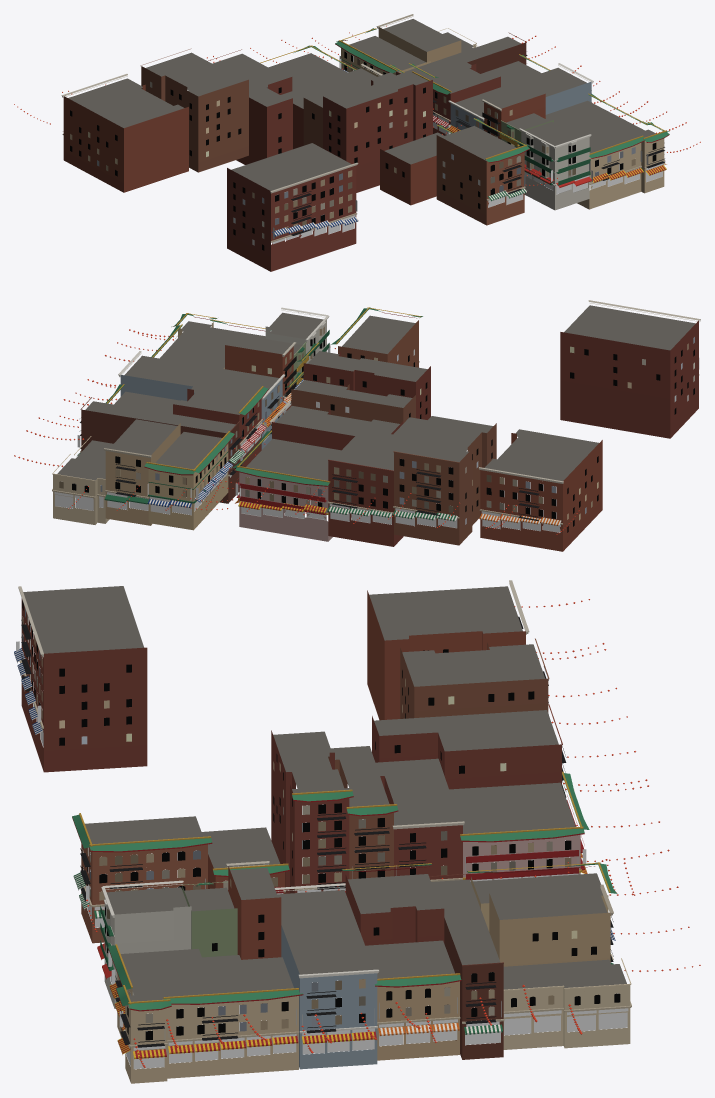
3 views of the same model, one above another, from view 1: azimuth 30°, elevation 25°; view 2: azimuth 150°, elevation 25°; view 3: azimuth 270°, elevation 25° (orthographic). The views are drawn at different scales.
Visible parts, largest first — view 1: L1_brickred, L1_roof, L1_d_brickred, L1_win, L1_stucco, L1_brick, L1_d_paint, L1_stone, L1_d_fabric, L1_rooftile, L1_shopint, L1_d_brick (+3 smaller); view 2: L1_brickred, L1_roof, L1_stucco, L1_win, L1_brick, L1_d_fabric, L1_shopint, L1_stone, L1_d_brickred, L1_d_paint, L1_rooftile, L1_d_stucco (+5 smaller); view 3: L1_roof, L1_brickred, L1_brick, L1_stucco, L1_win, L1_rooftile, L1_d_paint, L1_shopint, L1_stone, L1_d_fabric, L1_d_metal, L1_d_brickred (+3 smaller).
Part boxes in pixels (x1,y1,x2,y2): L1_brickred: [63, 64, 545, 271]; L1_roof: [68, 19, 655, 190]; L1_d_brickred: [124, 42, 526, 205]; L1_win: [70, 51, 656, 250]; L1_stucco: [341, 48, 589, 210]; L1_brick: [473, 43, 664, 209]; L1_d_paint: [260, 28, 669, 184]; L1_stone: [61, 14, 665, 242]; L1_d_fabric: [62, 68, 666, 236]; L1_rooftile: [294, 28, 669, 162]; L1_shopint: [287, 119, 662, 240]; L1_d_brick: [378, 27, 589, 209]; L1_brickred: [187, 320, 698, 551]; L1_roof: [57, 305, 695, 481]; L1_stucco: [148, 320, 328, 541]; L1_win: [59, 326, 694, 532]; L1_brick: [53, 322, 224, 525]; L1_d_fabric: [77, 379, 561, 526]; L1_shopint: [55, 382, 560, 532]; L1_stone: [52, 300, 700, 524]; L1_d_brickred: [81, 404, 437, 546]; L1_d_paint: [107, 307, 421, 514]; L1_rooftile: [105, 307, 422, 485]; L1_d_stucco: [120, 333, 351, 541]; L1_roof: [23, 586, 626, 1001]; L1_brickred: [21, 598, 561, 1059]; L1_brick: [117, 912, 630, 1083]; L1_stucco: [104, 835, 580, 1069]; L1_win: [22, 600, 620, 1040]; L1_rooftile: [72, 773, 617, 1010]; L1_d_paint: [72, 771, 610, 1011]; L1_shopint: [33, 705, 627, 1069]; L1_stone: [18, 580, 631, 1047]; L1_d_fabric: [14, 648, 615, 1059]; L1_d_metal: [21, 616, 613, 1047]; L1_d_brickred: [200, 590, 462, 1059].
Bounding box in the file's own units: 155 × 35.39 × 117.
